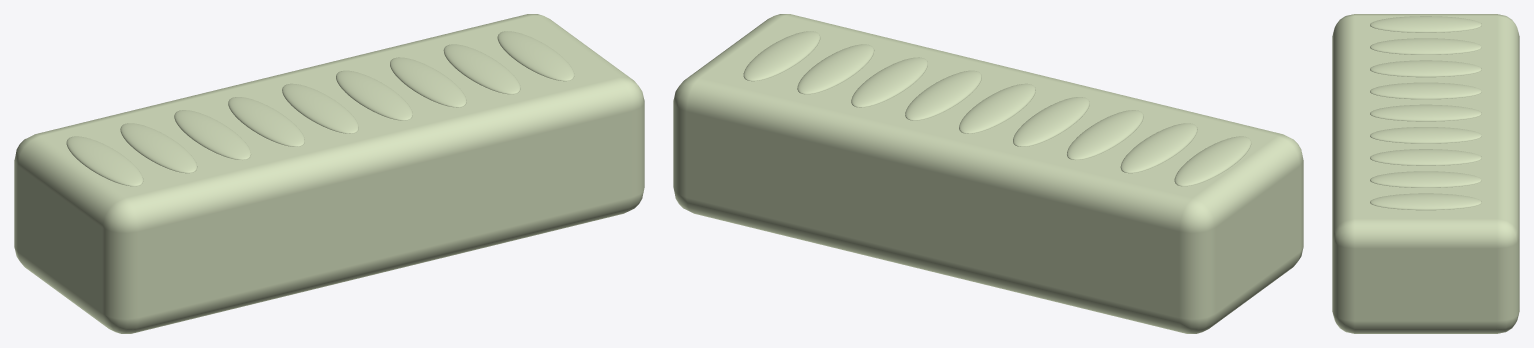
Rendered from candlemaking-and-soap-workshop-finished-soap-loaf-c71f2008__30683.glb.
The picture shows the model from 3 angles, left to right: view 1: azimuth 30°, elevation 25°; view 2: azimuth 150°, elevation 25°; view 3: azimuth 270°, elevation 25°; orthographic projection. The views are drawn at different scales.
Visible parts, largest first — view 1: finished-soap-loaf; view 2: finished-soap-loaf; view 3: finished-soap-loaf.
Part boxes in pixels (x1,y1,x2,y2): finished-soap-loaf: (14, 14, 644, 333); finished-soap-loaf: (673, 14, 1303, 333); finished-soap-loaf: (1332, 14, 1519, 333).
Bounding box in the file's own units: 0.42 × 0.1037 × 0.15.
